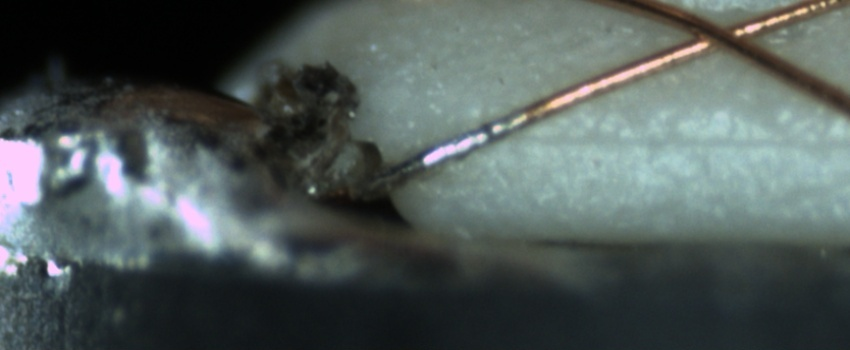CL: (660, 5, 782, 63)
DL: (481, 111, 850, 175)
TS: (343, 109, 530, 203)
